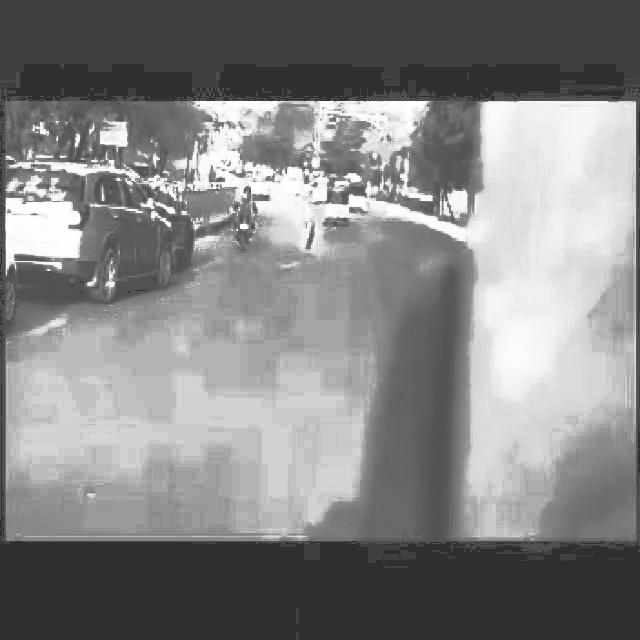Car: (0, 156, 178, 306)
